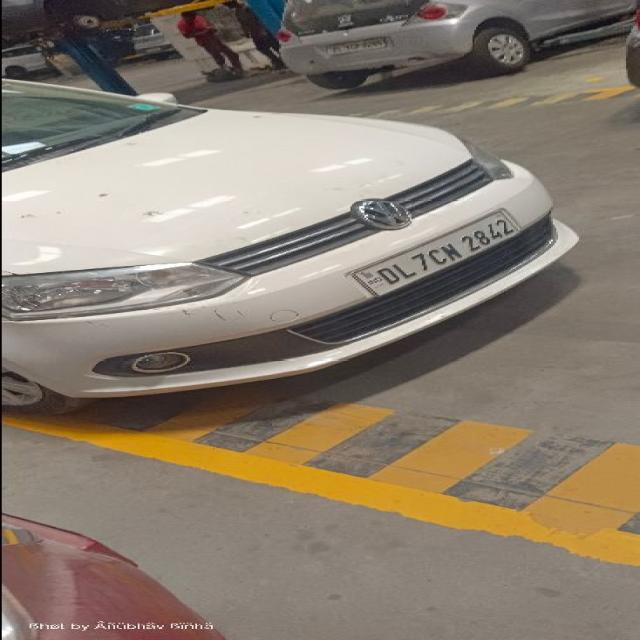license_plate: (345, 206, 523, 299)
